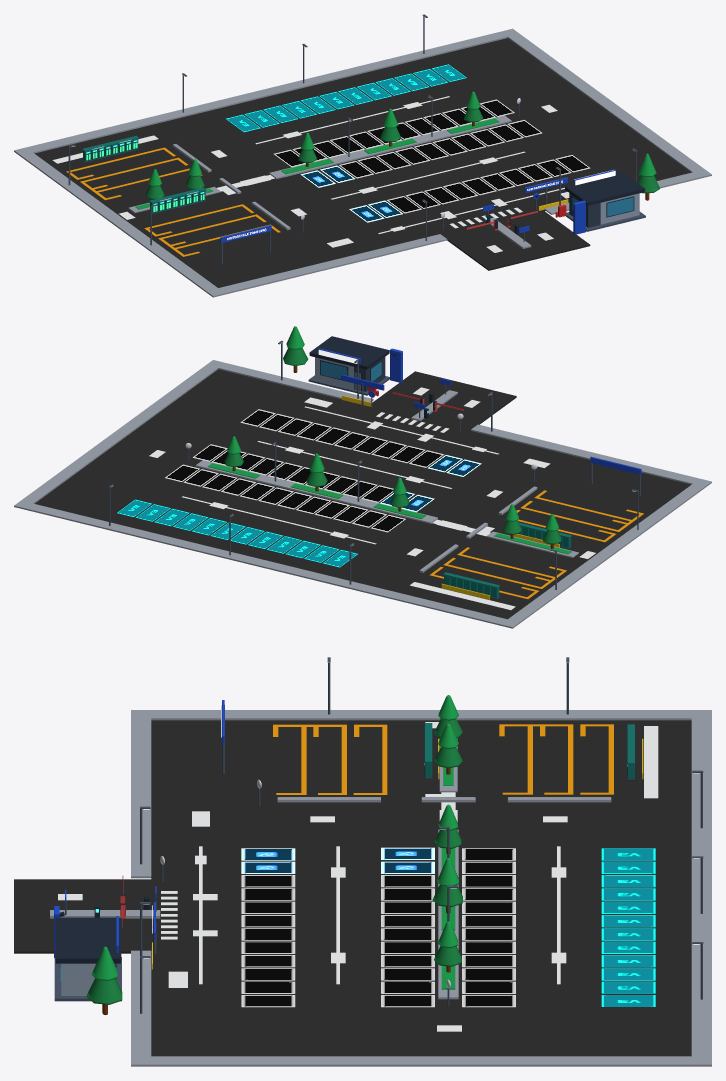
File: outdoor_parking_lot.glb
3 views of the same model, one above another, from view 1: azimuth 30°, elevation 25°; view 2: azimuth 150°, elevation 25°; view 3: azimuth 270°, elevation 25° (orthographic). The views are drawn at different scales.
Visible parts, largest first — view 1: Parking_Asphalt_Main, Entrance_Approach_Road, Sidewalk_North, Sidewalk_East, Sidewalk_West, Sidewalk_SouthWest, Central_Pedestrian_Island, MgmtBuilding_RoofDeck, Sidewalk_SouthEast, MgmtBuilding_Walls; view 2: Parking_Asphalt_Main, Sidewalk_North, Entrance_Approach_Road, Sidewalk_East, Sidewalk_West, Sidewalk_SouthWest, Central_Pedestrian_Island, Sidewalk_SouthEast, MgmtBuilding_RoofDeck, PedestrianPath_Moto_North; view 3: Parking_Asphalt_Main, Sidewalk_North, Entrance_Approach_Road, Sidewalk_East, Sidewalk_West, Sidewalk_SouthWest, MgmtBuilding_RoofDeck, Sidewalk_SouthEast, PedestrianPath_Moto_North, MgmtBuilding_Walls, Central_Pedestrian_Island, Tree_12_Canopy1 (+49 smaller).
Boxes of the visible parts, x1,y1,x2,y2 form: Parking_Asphalt_Main: (34, 38, 690, 287); Entrance_Approach_Road: (441, 210, 590, 270); Sidewalk_North: (14, 28, 519, 156); Sidewalk_East: (507, 33, 704, 172); Sidewalk_West: (21, 152, 217, 291); Sidewalk_SouthWest: (206, 234, 447, 297); Central_Pedestrian_Island: (269, 115, 511, 179); MgmtBuilding_RoofDeck: (566, 173, 642, 201); Sidewalk_SouthEast: (544, 169, 711, 214); MgmtBuilding_Walls: (600, 193, 639, 224); Parking_Asphalt_Main: (34, 369, 690, 619); Sidewalk_North: (14, 500, 519, 628); Entrance_Approach_Road: (368, 371, 516, 430); Sidewalk_East: (21, 365, 218, 503); Sidewalk_West: (508, 483, 704, 623); Sidewalk_SouthWest: (471, 424, 711, 487); Central_Pedestrian_Island: (195, 460, 437, 523); Sidewalk_SouthEast: (206, 360, 373, 402); MgmtBuilding_RoofDeck: (311, 337, 387, 365); PedestrianPath_Moto_North: (410, 582, 515, 609); Parking_Asphalt_Main: (151, 720, 691, 1056); Sidewalk_North: (691, 710, 711, 1066); Entrance_Approach_Road: (14, 879, 153, 953); Sidewalk_East: (151, 1056, 691, 1066); Sidewalk_West: (151, 710, 691, 720); Sidewalk_SouthWest: (131, 710, 151, 878); MgmtBuilding_RoofDeck: (57, 918, 119, 958); Sidewalk_SouthEast: (131, 950, 151, 1066); PedestrianPath_Moto_North: (644, 726, 658, 798); MgmtBuilding_Walls: (61, 963, 115, 995); Central_Pedestrian_Island: (438, 829, 458, 999); Tree_12_Canopy1: (86, 978, 122, 1004).
Size of what is drawn, in the model's own units: 37.3 by 3.4 by 31.
Materials: 45 (9 with a texture image).
